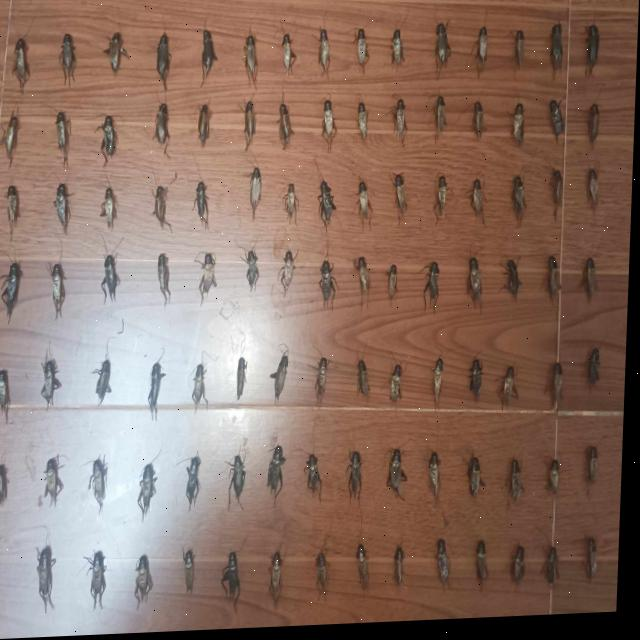egg: (41, 545, 60, 613), (3, 262, 24, 321), (44, 351, 65, 408), (225, 553, 245, 612), (97, 116, 119, 167), (92, 551, 111, 609), (142, 465, 161, 523), (271, 448, 290, 505), (92, 457, 111, 513), (272, 354, 292, 407), (13, 38, 31, 93), (139, 557, 158, 609), (151, 362, 168, 420), (47, 456, 67, 505), (391, 453, 411, 500), (201, 255, 219, 307), (321, 263, 340, 311), (103, 255, 122, 303), (2, 112, 19, 165), (233, 457, 250, 510), (202, 31, 218, 87), (56, 111, 72, 166), (108, 34, 130, 73), (157, 34, 172, 91), (239, 333, 251, 404), (97, 356, 114, 406), (53, 264, 68, 320), (61, 34, 77, 86), (470, 459, 489, 502), (56, 184, 72, 235), (436, 27, 451, 81), (426, 265, 442, 315), (273, 552, 287, 608), (190, 456, 204, 512), (320, 184, 337, 230), (280, 253, 297, 299), (471, 262, 485, 315), (156, 106, 171, 155), (309, 457, 326, 500), (155, 187, 172, 230), (586, 30, 600, 82), (476, 23, 489, 78), (244, 36, 258, 87), (352, 454, 366, 505), (359, 260, 373, 311), (280, 104, 295, 151), (323, 102, 337, 152), (550, 29, 563, 82), (0, 369, 13, 422), (102, 188, 118, 230), (197, 183, 211, 231), (160, 255, 173, 305), (251, 168, 263, 222), (246, 250, 261, 293), (195, 366, 210, 409), (8, 185, 21, 234), (318, 360, 331, 409), (396, 178, 409, 226), (550, 551, 564, 595), (360, 184, 374, 228), (435, 180, 449, 224), (282, 37, 297, 78), (552, 174, 564, 225), (395, 101, 408, 148), (441, 543, 454, 589), (361, 547, 374, 592), (549, 261, 562, 306), (550, 105, 565, 144), (436, 361, 447, 414), (356, 31, 369, 75), (514, 181, 527, 225), (513, 107, 526, 151), (509, 264, 523, 304), (472, 183, 485, 226), (473, 363, 485, 409), (320, 553, 333, 595), (585, 263, 598, 305), (555, 368, 566, 417), (515, 551, 529, 589), (187, 550, 199, 594), (589, 451, 602, 491), (393, 367, 406, 407), (433, 456, 444, 503), (245, 104, 256, 151), (480, 545, 492, 588), (0, 464, 12, 506), (199, 106, 211, 148), (589, 108, 601, 150), (319, 32, 330, 77), (514, 463, 525, 507), (361, 363, 373, 403), (436, 99, 446, 146), (393, 33, 405, 72), (505, 371, 517, 410), (286, 186, 298, 225), (592, 353, 603, 392), (474, 106, 485, 144), (591, 543, 601, 584), (398, 549, 408, 589), (590, 174, 600, 213), (552, 464, 563, 499), (358, 104, 368, 142), (515, 35, 525, 72), (390, 268, 400, 305), (438, 364, 446, 384), (313, 468, 321, 477)
